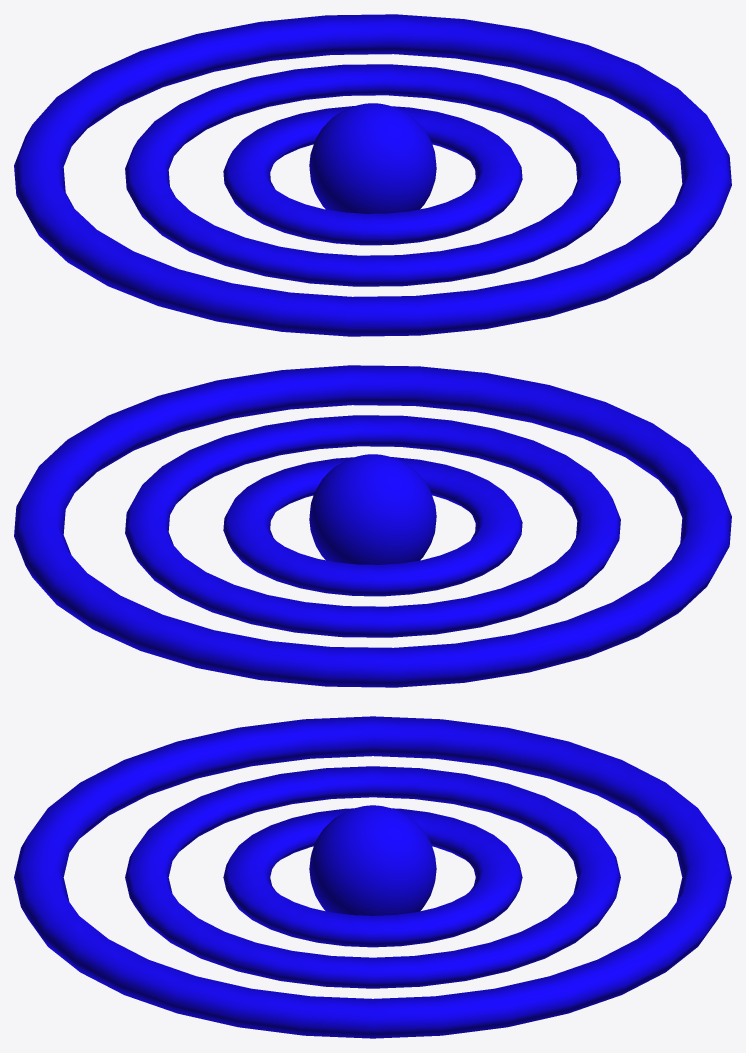
Rendered from Sharik.fbx.
The picture shows the model from 3 angles, top to bottom: view 1: azimuth 30°, elevation 25°; view 2: azimuth 150°, elevation 25°; view 3: azimuth 270°, elevation 25°; orthographic projection.
Visible parts, largest first — view 1: Сфера; view 2: Сфера; view 3: Сфера.
Part boxes in pixels (left/top/right/bottom): Сфера: left=14, top=14, right=731, bottom=336; Сфера: left=14, top=365, right=731, bottom=687; Сфера: left=14, top=716, right=731, bottom=1038.
Bounding box in the file's own units: 514 × 91.14 × 514.
